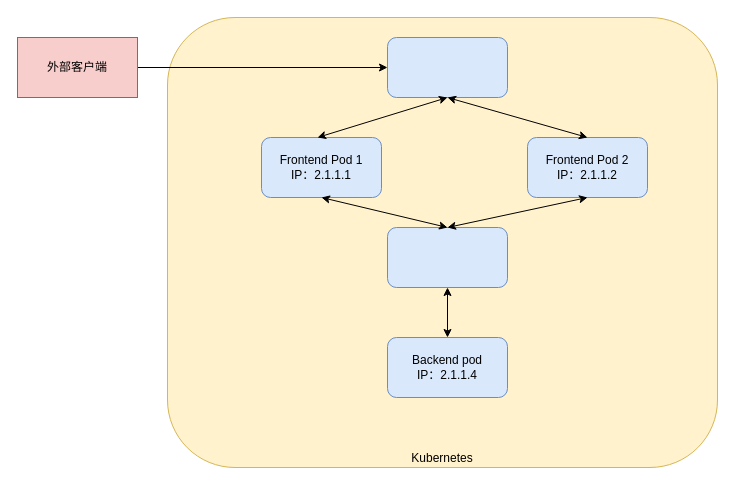
Image size: 735x485. Some labels were removed from this diagram. The shapes that lost their labels are listed below. From the top down, each one's centre as x and y in pixels, then its label:
point 447,67: 前端服务 IP：1.1.1.1
point 447,257: 后端服务 IP：1.1.1.2
